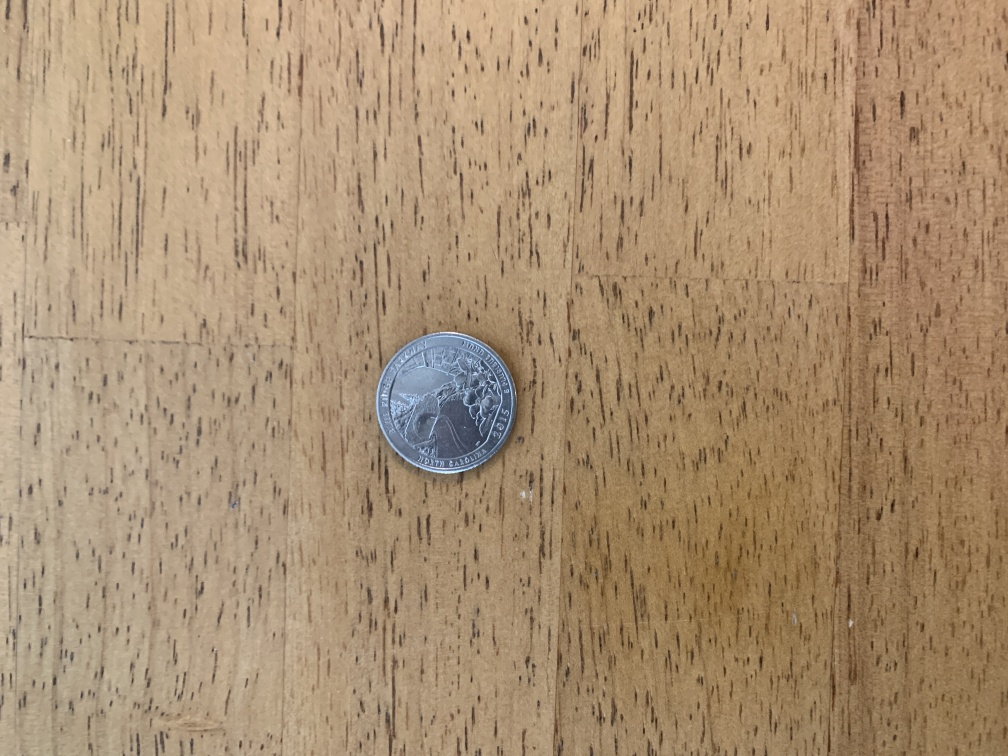quarter: (368, 326, 522, 481)
